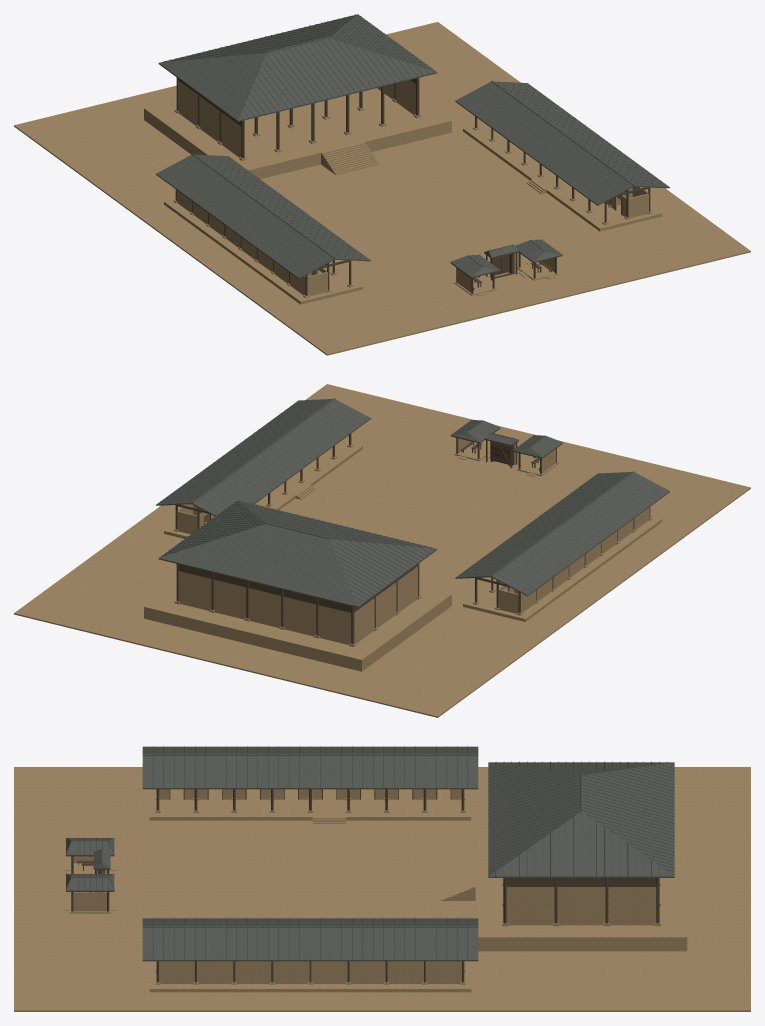
The model's file is palace-admission-court-closed-LOD1.glb.
3 views of the same model, one above another, from view 1: azimuth 30°, elevation 25°; view 2: azimuth 150°, elevation 25°; view 3: azimuth 270°, elevation 25° (orthographic). The views are drawn at different scales.
Parts seen in each view (by area): view 1: new_court_support_C, hall__deyang-A-static_earth, hall__deyang-A-static_tile, west_gallery__sidehall-A-static_tile, east_gallery__sidehall-A-static_tile, east_gallery__sidehall-A-static_earth, west_gallery__sidehall-A-static_earth, guard__guard-slice-ground-earth, hall__deyang-A-static_timber, guard__guard-slice-west-tile, guard__guard-slice-east-tile, east_gallery__sidehall-A-static_timber (+1 smaller); view 2: new_court_support_C, hall__deyang-A-static_tile, hall__deyang-A-static_earth, west_gallery__sidehall-A-static_tile, east_gallery__sidehall-A-static_tile, west_gallery__sidehall-A-static_earth, guard__guard-slice-ground-earth, east_gallery__sidehall-A-static_earth, hall__deyang-A-static_timber, guard__guard-slice-west-tile, guard__guard-slice-east-tile, guard__guard-slice-west-earth; view 3: new_court_support_C, hall__deyang-A-static_tile, hall__deyang-A-static_earth, east_gallery__sidehall-A-static_tile, west_gallery__sidehall-A-static_tile, east_gallery__sidehall-A-static_earth, west_gallery__sidehall-A-static_earth, guard__guard-slice-ground-earth, hall__deyang-A-static_timber, west_gallery__sidehall-A-static_timber, guard__guard-slice-east-tile, guard__guard-slice-east-earth (+2 smaller).
Boxes of the visible parts, bbox=[...] form: new_court_support_C: bbox=[14, 22, 750, 355]; hall__deyang-A-static_earth: bbox=[144, 80, 451, 179]; hall__deyang-A-static_tile: bbox=[158, 14, 437, 121]; west_gallery__sidehall-A-static_tile: bbox=[156, 153, 370, 278]; east_gallery__sidehall-A-static_tile: bbox=[455, 80, 669, 205]; east_gallery__sidehall-A-static_earth: bbox=[463, 123, 662, 231]; west_gallery__sidehall-A-static_earth: bbox=[164, 190, 362, 304]; guard__guard-slice-ground-earth: bbox=[419, 252, 593, 312]; hall__deyang-A-static_timber: bbox=[176, 77, 419, 158]; guard__guard-slice-west-tile: bbox=[450, 254, 500, 277]; guard__guard-slice-east-tile: bbox=[515, 239, 562, 262]; east_gallery__sidehall-A-static_timber: bbox=[475, 116, 650, 222]; new_court_support_C: bbox=[14, 384, 750, 717]; hall__deyang-A-static_tile: bbox=[158, 500, 437, 607]; hall__deyang-A-static_earth: bbox=[144, 566, 451, 671]; west_gallery__sidehall-A-static_tile: bbox=[455, 471, 669, 596]; east_gallery__sidehall-A-static_tile: bbox=[156, 398, 370, 516]; west_gallery__sidehall-A-static_earth: bbox=[463, 507, 662, 621]; guard__guard-slice-ground-earth: bbox=[419, 432, 593, 492]; east_gallery__sidehall-A-static_earth: bbox=[164, 441, 362, 538]; hall__deyang-A-static_timber: bbox=[176, 563, 419, 644]; guard__guard-slice-west-tile: bbox=[513, 435, 562, 457]; guard__guard-slice-east-tile: bbox=[450, 420, 500, 442]; guard__guard-slice-west-earth: bbox=[516, 449, 558, 476]; new_court_support_C: bbox=[14, 767, 750, 1011]; hall__deyang-A-static_tile: bbox=[488, 761, 674, 877]; hall__deyang-A-static_earth: bbox=[441, 812, 687, 951]; east_gallery__sidehall-A-static_tile: bbox=[142, 918, 478, 961]; west_gallery__sidehall-A-static_tile: bbox=[142, 746, 478, 789]; east_gallery__sidehall-A-static_earth: bbox=[149, 961, 471, 992]; west_gallery__sidehall-A-static_earth: bbox=[149, 789, 471, 823]; guard__guard-slice-ground-earth: bbox=[31, 852, 149, 924]; hall__deyang-A-static_timber: bbox=[503, 878, 659, 923]; west_gallery__sidehall-A-static_timber: bbox=[156, 789, 464, 810]; guard__guard-slice-east-tile: bbox=[66, 873, 114, 891]; guard__guard-slice-east-earth: bbox=[64, 892, 115, 913].
Bounding box in the file's own units: 68 × 12.74 × 87.
9 materials, 9 textured.
